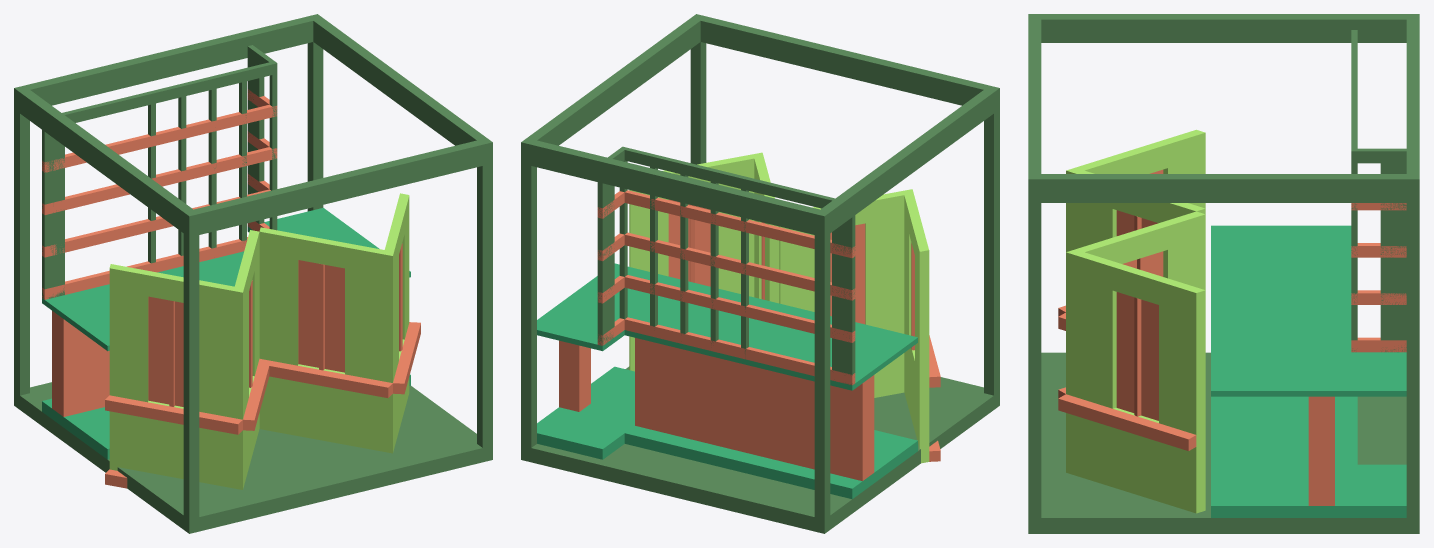
The picture shows the model from 3 angles, left to right: view 1: azimuth 30°, elevation 25°; view 2: azimuth 150°, elevation 25°; view 3: azimuth 270°, elevation 25°; orthographic projection. The views are drawn at different scales.
Parts seen in each view (by area): view 1: 物件_18, 物件_17, 物件_35, 物件_42, 物件_41, 物件_19, 物件_40, 物件_38, 物件_43, 物件_36, 物件_39, 物件_22 (+22 smaller); view 2: 物件_22, 物件_35, 物件_17, 物件_19, 物件_20, 物件_41, 物件_42, 物件_18, 物件_40, 物件_39, 物件_43, 物件_37 (+17 smaller); view 3: 物件_18, 物件_19, 物件_35, 物件_20, 物件_43, 物件_40, 物件_17, 物件_37, 物件_36, 物件_13, 物件_28, 物件_21 (+11 smaller).
Boxes of the visible parts, x1,y1,x2,y2 form: 物件_18: [259, 193, 409, 453]; 物件_17: [109, 230, 259, 489]; 物件_35: [14, 382, 492, 533]; 物件_42: [184, 138, 492, 236]; 物件_41: [14, 14, 321, 112]; 物件_19: [42, 207, 410, 351]; 物件_40: [14, 85, 199, 236]; 物件_38: [183, 209, 199, 519]; 物件_43: [311, 14, 492, 164]; 物件_36: [477, 138, 492, 447]; 物件_39: [14, 85, 29, 395]; 物件_22: [52, 311, 109, 416]; 物件_22: [635, 338, 874, 480]; 物件_35: [521, 366, 999, 533]; 物件_17: [779, 189, 929, 463]; 物件_19: [537, 263, 917, 390]; 物件_20: [537, 366, 917, 499]; 物件_41: [521, 138, 830, 236]; 物件_42: [691, 15, 997, 105]; 物件_18: [629, 152, 779, 371]; 物件_40: [814, 86, 999, 237]; 物件_39: [814, 210, 830, 519]; 物件_43: [521, 14, 700, 163]; 物件_37: [521, 138, 536, 447]; 物件_18: [1066, 211, 1205, 513]; 物件_19: [1211, 225, 1406, 396]; 物件_35: [1028, 352, 1419, 533]; 物件_20: [1211, 396, 1406, 517]; 物件_43: [1028, 174, 1418, 202]; 物件_40: [1030, 14, 1419, 42]; 物件_17: [1066, 129, 1205, 251]; 物件_37: [1406, 174, 1419, 517]; 物件_36: [1028, 174, 1041, 517]; 物件_13: [1116, 292, 1158, 420]; 物件_28: [1380, 149, 1406, 352]; 物件_21: [1308, 396, 1334, 505].
Size of the model in its own units: 50.01 by 48 by 48.
